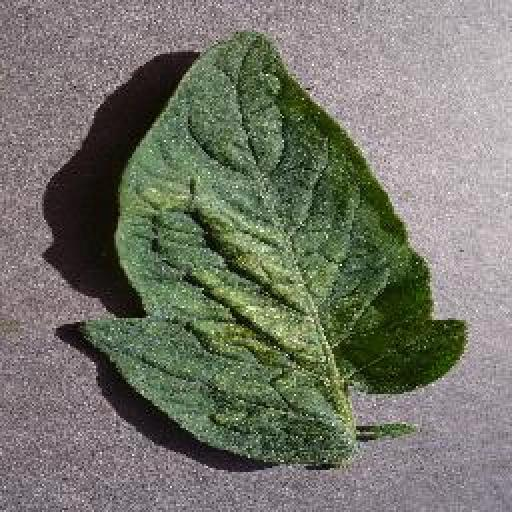disease_tomato: (78, 28, 468, 462)
